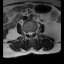CCS_stenosis: (29, 30, 31, 37)
LFS_normal: (33, 29, 35, 36)
LLS_normal: (31, 30, 33, 36)
RFS_normal: (25, 30, 27, 36)
RLS_normal: (27, 30, 29, 36)
